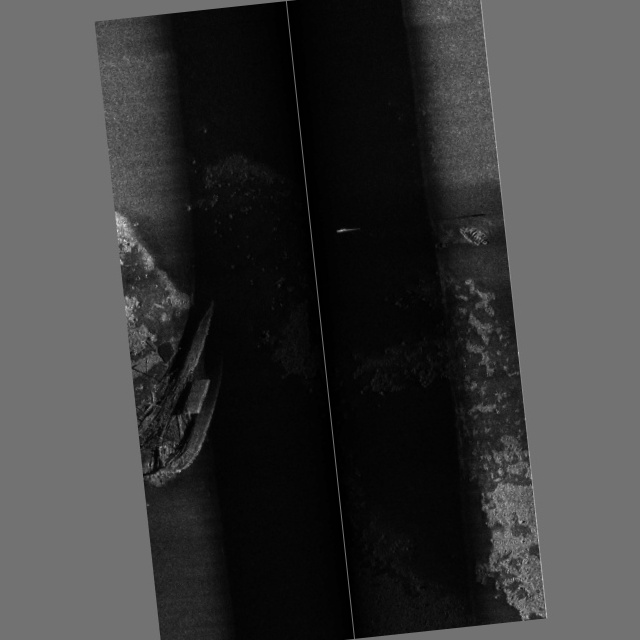Shipwreck: (124, 300, 233, 484)
